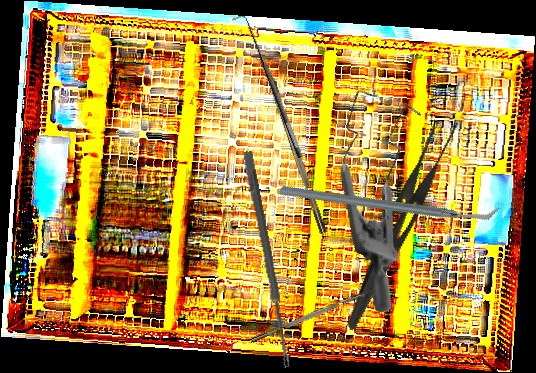Chopper: (277, 106, 502, 296), (253, 53, 327, 237), (247, 279, 382, 344)
Dressing Forceps: (344, 110, 463, 341)
Hook Surgical: (231, 10, 305, 163)
Speculum: (270, 67, 501, 317)
Surgical Spoon: (241, 150, 294, 369)
